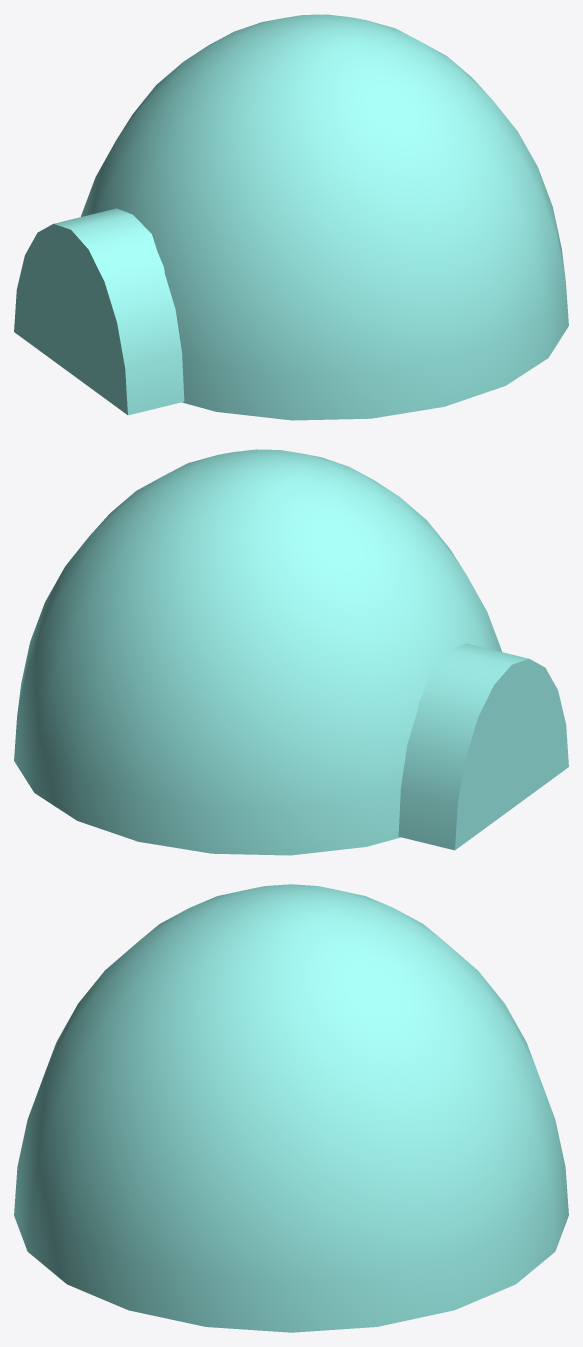
File: igloo.fbx
The picture shows the model from 3 angles, top to bottom: view 1: azimuth 30°, elevation 25°; view 2: azimuth 150°, elevation 25°; view 3: azimuth 270°, elevation 25°; orthographic projection. The views are drawn at different scales.
Visible parts, largest first — view 1: pCylinder19; view 2: pCylinder19; view 3: pCylinder19.
Part boxes in pixels (x1=…): pCylinder19: x1=14, y1=14, x2=568, y2=420; pCylinder19: x1=14, y1=449, x2=568, y2=855; pCylinder19: x1=14, y1=884, x2=568, y2=1332.
Size of the model in its own units: 0.7194 by 0.4153 by 0.6736.
